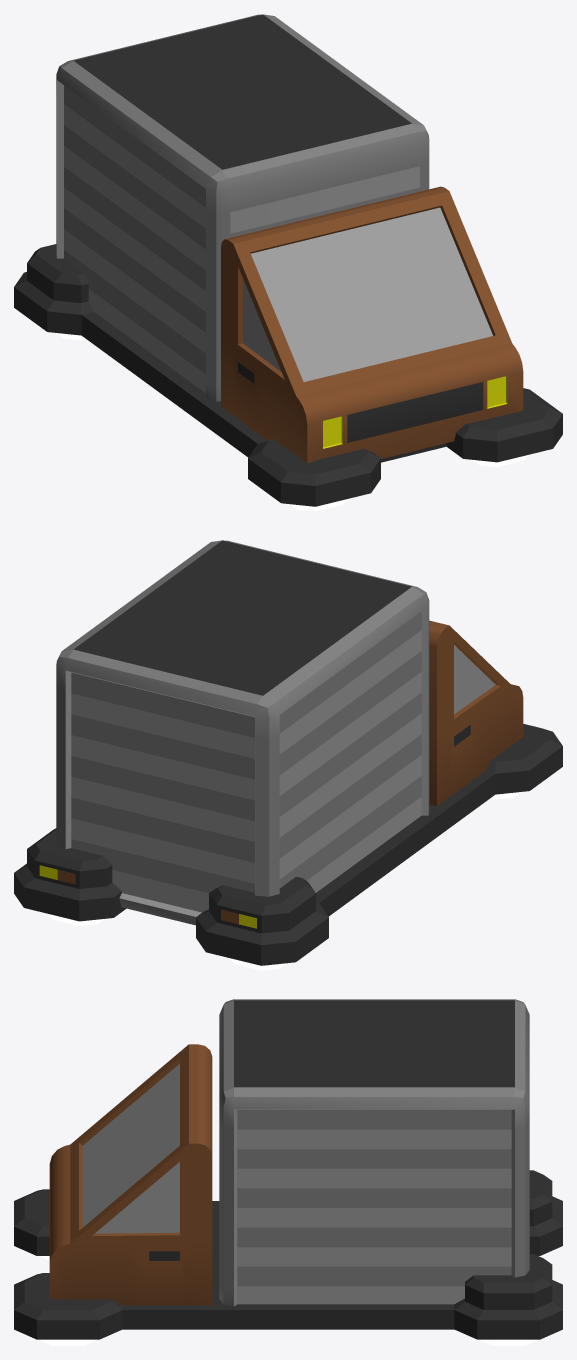
File: MOBIL_NPC_PAKET.fbx
3 views of the same model, one above another, from view 1: azimuth 30°, elevation 25°; view 2: azimuth 150°, elevation 25°; view 3: azimuth 270°, elevation 25° (orthographic). The views are drawn at different scales.
Parts seen in each view (by area): view 1: MOBIL_NPC_PAKET; view 2: MOBIL_NPC_PAKET; view 3: MOBIL_NPC_PAKET.
Part boxes in pixels (<box>): MOBIL_NPC_PAKET: <box>14,14,562,511</box>; MOBIL_NPC_PAKET: <box>14,540,562,970</box>; MOBIL_NPC_PAKET: <box>14,999,562,1345</box>.
Size of the model in its own units: 195 by 175 by 350.
